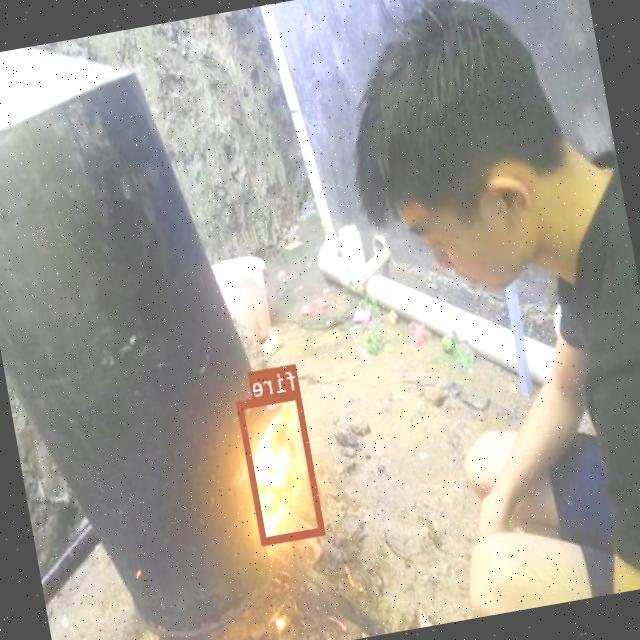fire: (237, 390, 326, 544)
